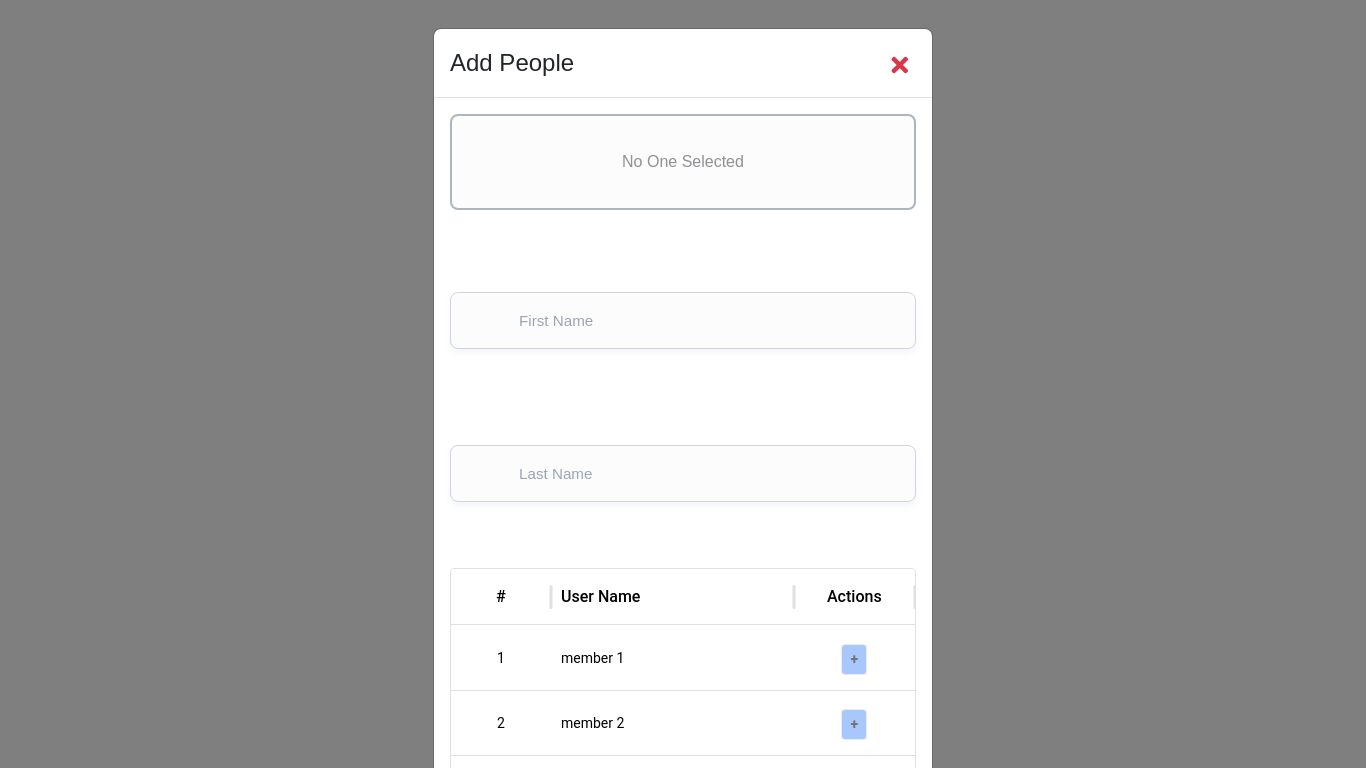
Test: Organisation Tags Page › clears last name search input
The width and height of the screenshot is (1366, 768).
Click the search field with placeholder "Last Name".
click(673, 474)  # box [471, 465, 875, 482]
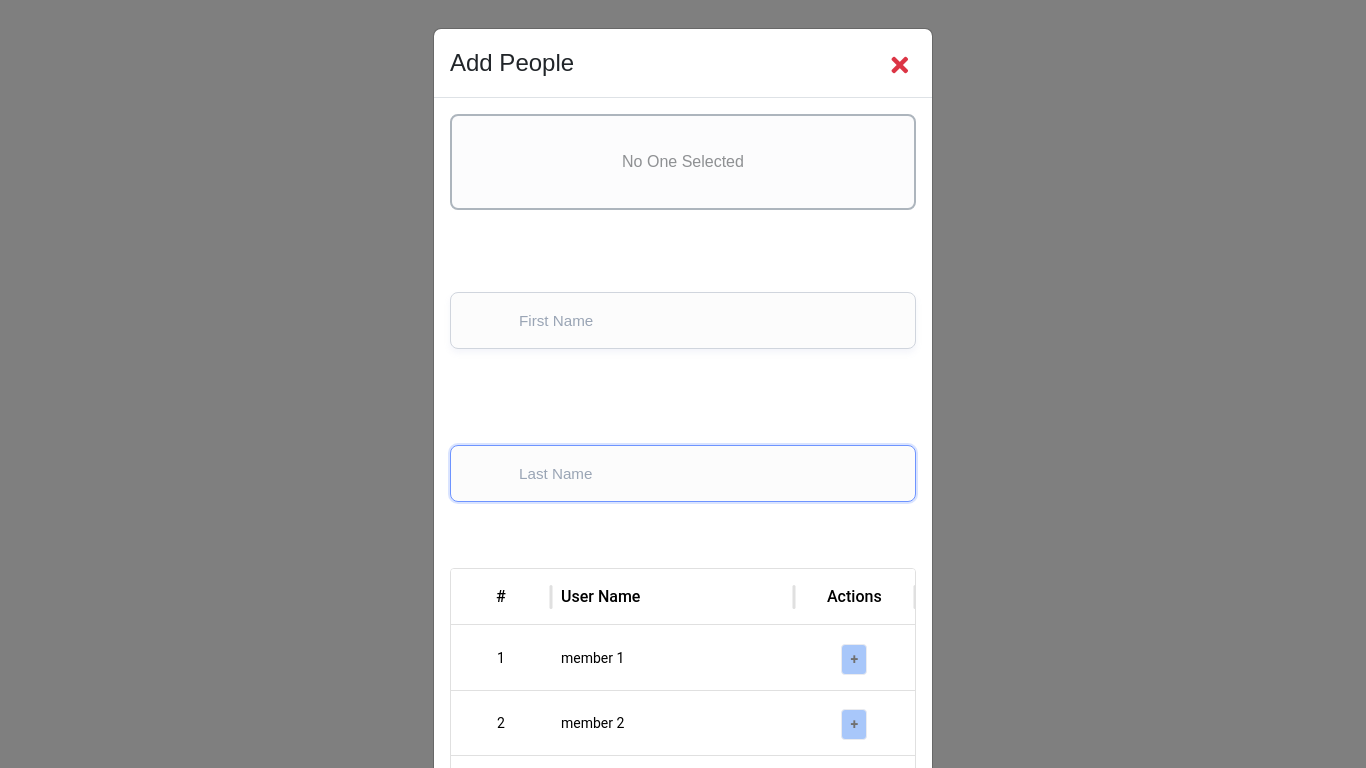
Type keys "userToAssignTo"
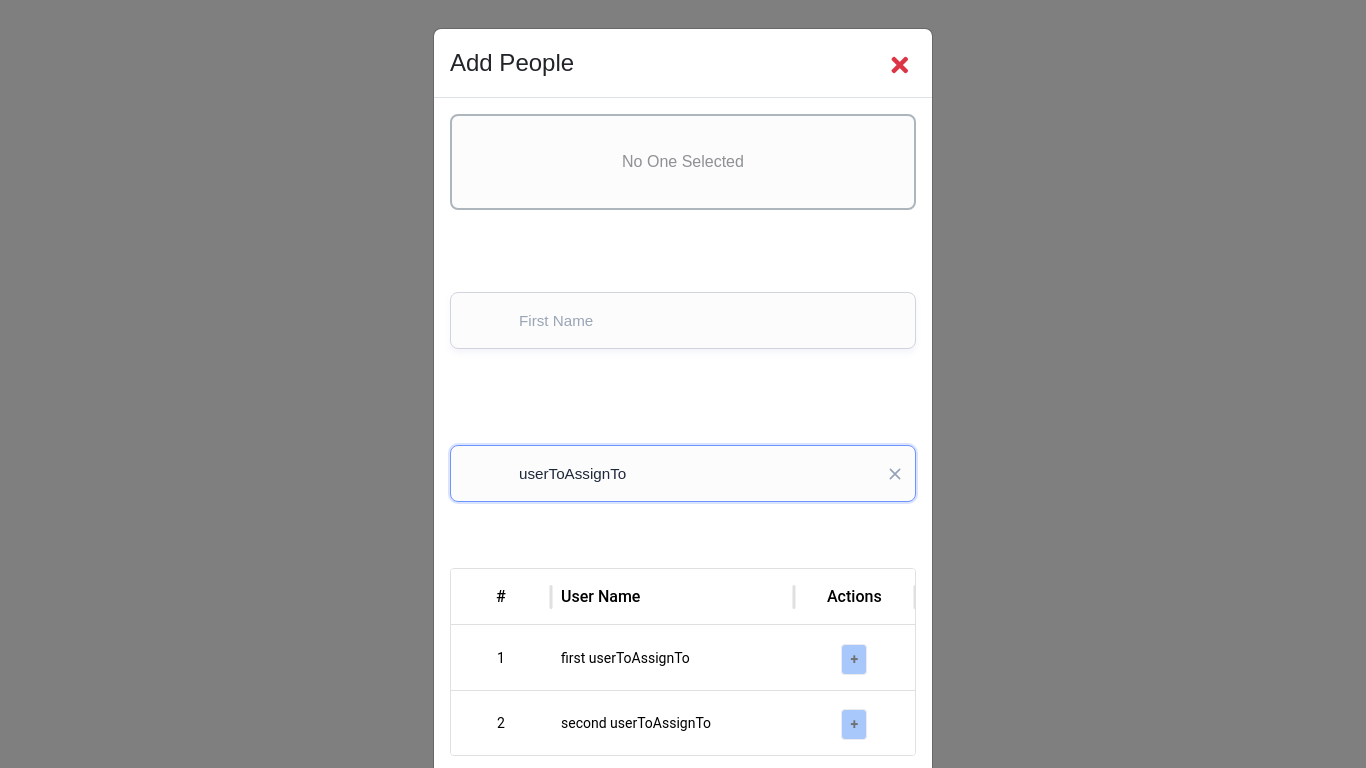
expect the search field with placeholder "Last Name" holds "userToAssignTo": met, box [471, 465, 875, 482]
# SearchBar renders a clear button when value is not empty
Click the button with test id "clearLastNameSearch".
click(895, 474)  # box [882, 461, 907, 486]
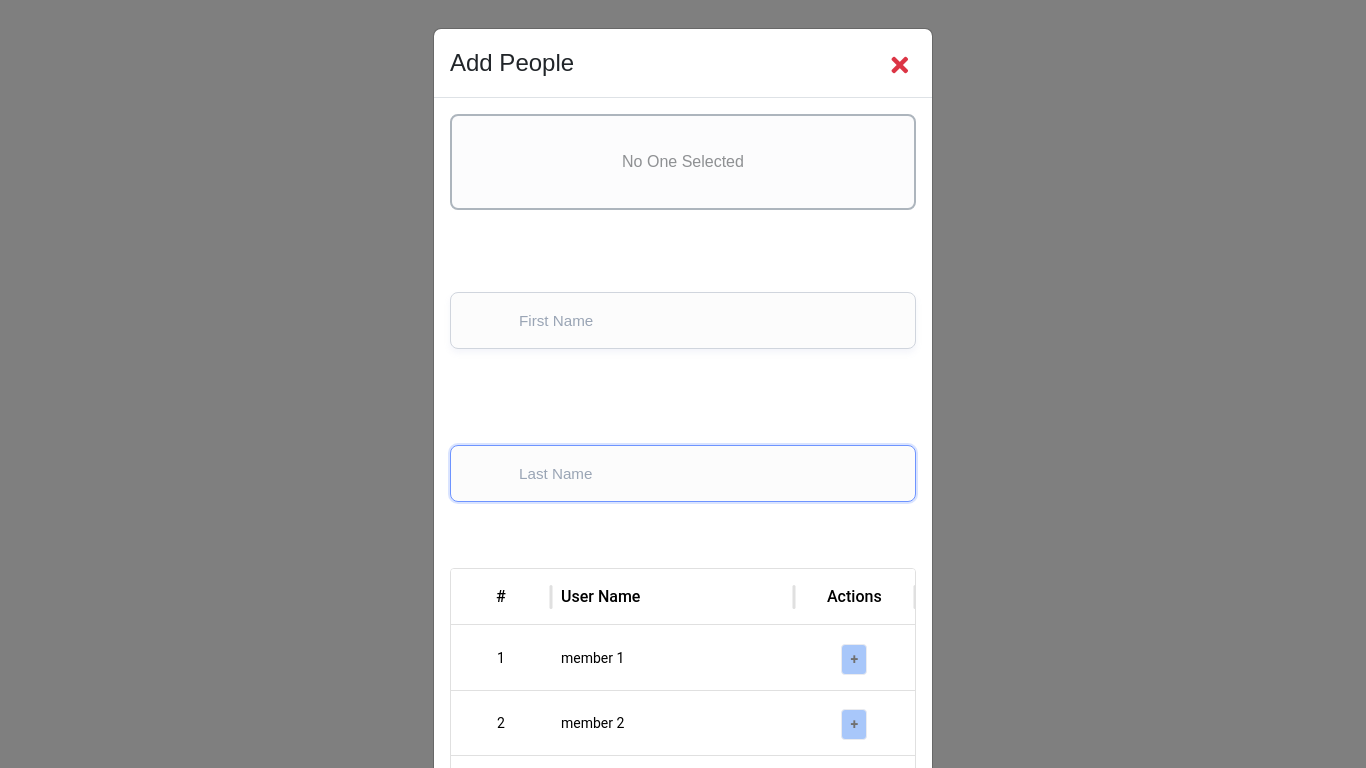
expect the search field with placeholder "Last Name" is empty: met, box [471, 465, 875, 482]
